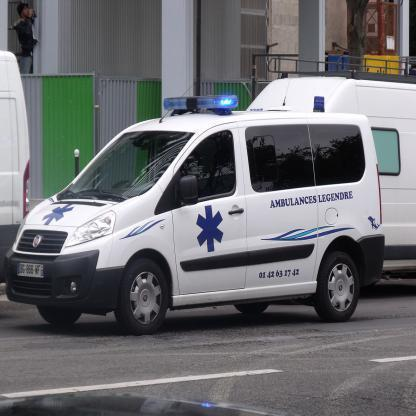ambulance_on: (0, 95, 379, 334)
